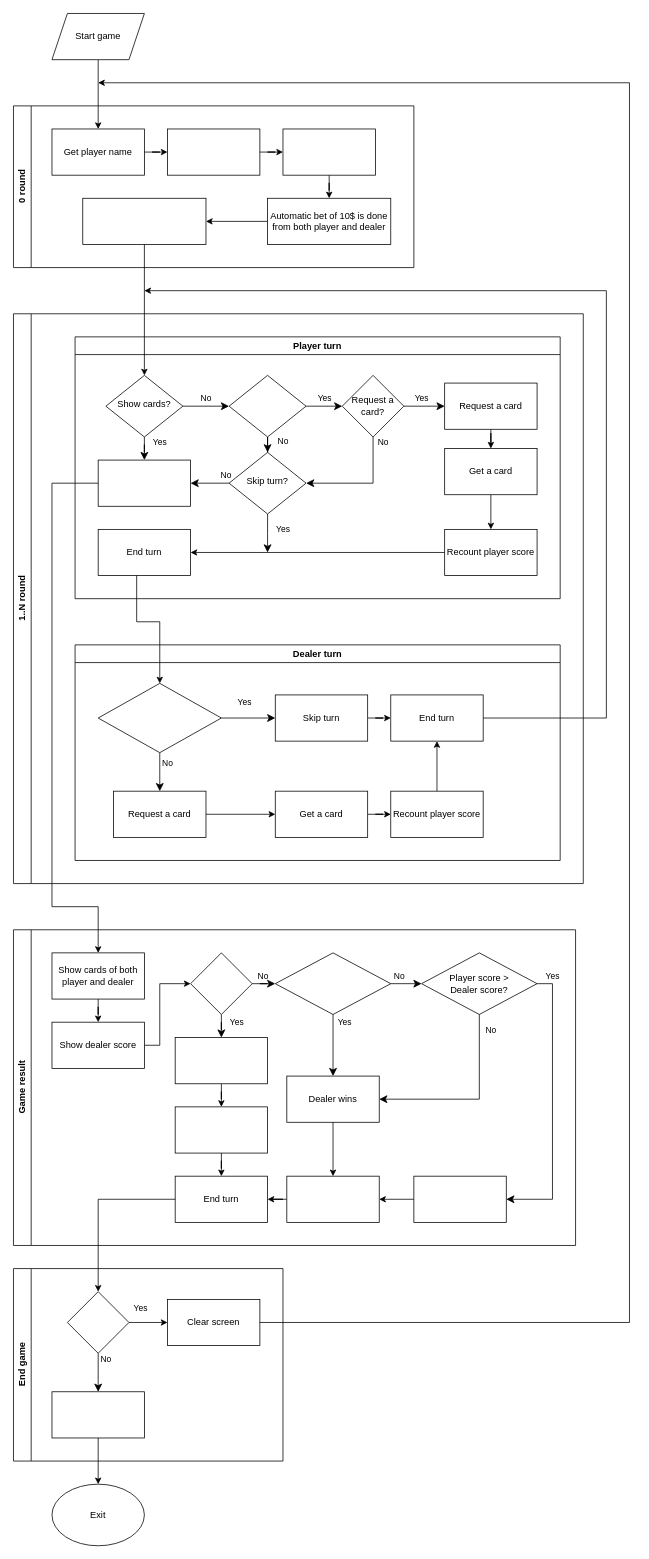
Some shapes in this 649 by 1559 pixel diagram are drawn without their labels. The shapes that lost their labels are listed below. From the top down, each one's centre as x and y in pixels, then its label:
(x=213, y=151): Give 2 cards to player
(x=328, y=151): Give 2 cards to dealer
(x=144, y=221): Print desk with player, his account and game bank
(x=267, y=406): Player has 2 cards?
(x=144, y=482): Show cards
(x=159, y=718): Dealer score is >= 17?
(x=221, y=983): Draw?
(x=333, y=983): Player has score >21?
(x=221, y=1060): Call a tie
(x=221, y=1129): Give money back from bank to players
(x=332, y=1198): Give money from bank to the winner
(x=459, y=1198): Player wins
(x=98, y=1322): One more game?
(x=97, y=1414): Goodbye message
